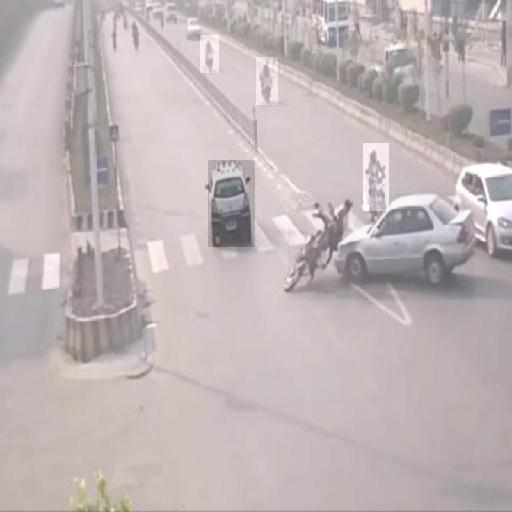小汽车: (465, 160, 512, 253), (208, 160, 255, 247)
小汽车撞自行车: (288, 193, 474, 300)
自行车: (363, 143, 389, 211), (256, 57, 278, 105), (200, 35, 219, 73)
